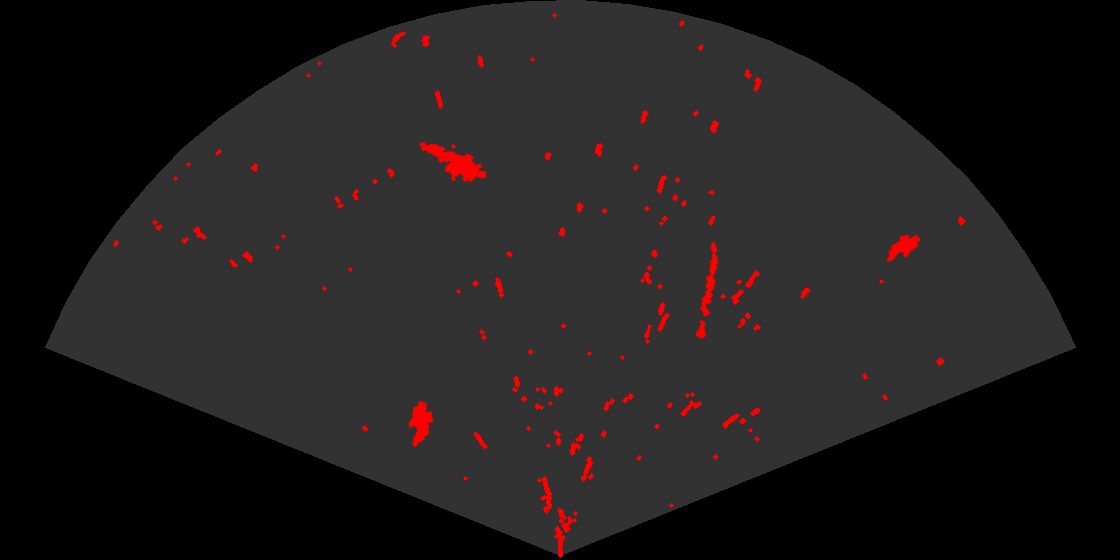AUV: (407, 399, 435, 449), (885, 233, 922, 264)
chain: (694, 240, 720, 341)
frogman: (418, 141, 486, 184)
